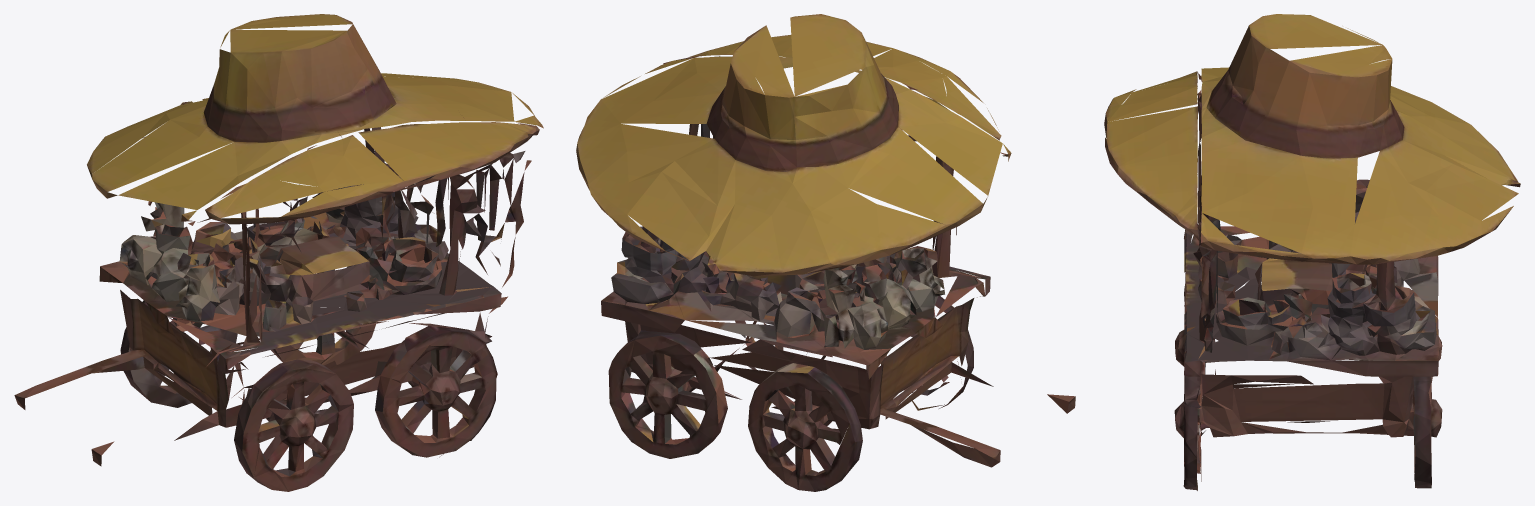
File: wagon_frosya.glb
3 renders of one model, left to right at view 1: azimuth 30°, elevation 25°; view 2: azimuth 150°, elevation 25°; view 3: azimuth 270°, elevation 25°, orthographic. The views are drawn at different scales.
Visible parts, largest first — view 1: geometry_0; view 2: geometry_0; view 3: geometry_0.
Part boxes in pixels (x1,y1,x2,y2): geometry_0: (14, 14, 543, 491); geometry_0: (576, 14, 1075, 491); geometry_0: (1104, 14, 1520, 490).
Bounding box in the file's own units: 2.09 × 1.85 × 1.67.
1 material, 1 textured.
